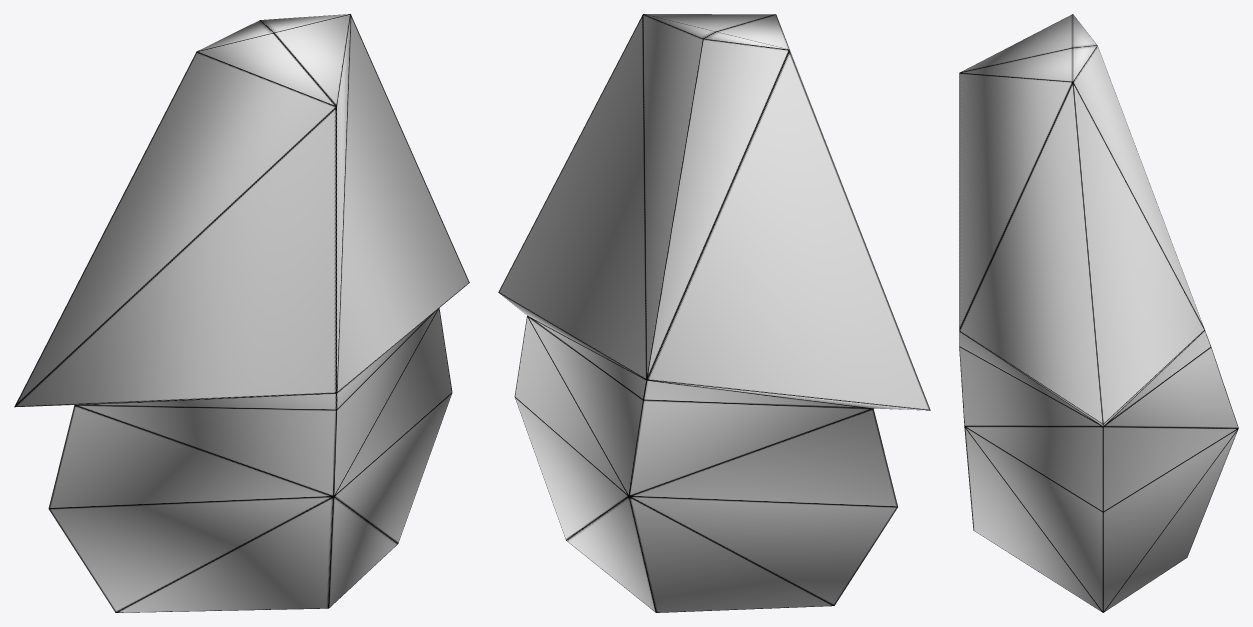
The picture shows the model from 3 angles, left to right: view 1: azimuth 30°, elevation 25°; view 2: azimuth 150°, elevation 25°; view 3: azimuth 270°, elevation 25°; orthographic projection. The views are drawn at different scales.
Visible parts, largest first — view 1: twoface2; view 2: twoface2; view 3: twoface2.
Boxes of the visible parts, x1,y1,x2,y2 form: twoface2: [14, 14, 469, 612]; twoface2: [498, 14, 930, 612]; twoface2: [959, 14, 1238, 612].
Bounding box in the file's own units: 1.77 × 2.11 × 1.05.
1 material, 1 textured.
